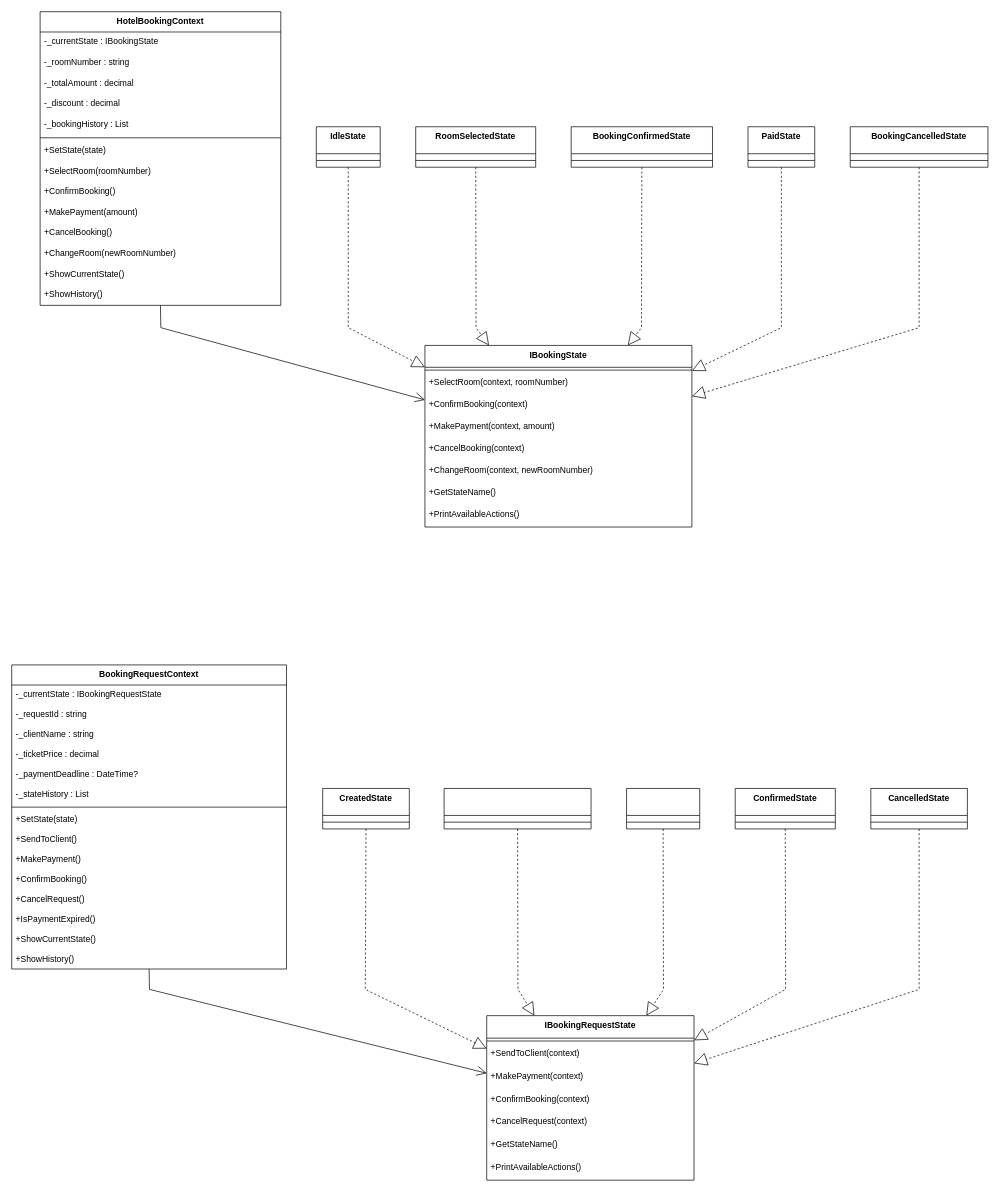
Image size: 1000x1192. Some labels were removed from this diagram. The centre of each missing label's shape, as x and y in pixels:
PaidState2: pixel 663 808
WaitingForPaymentState: pixel 517 808
